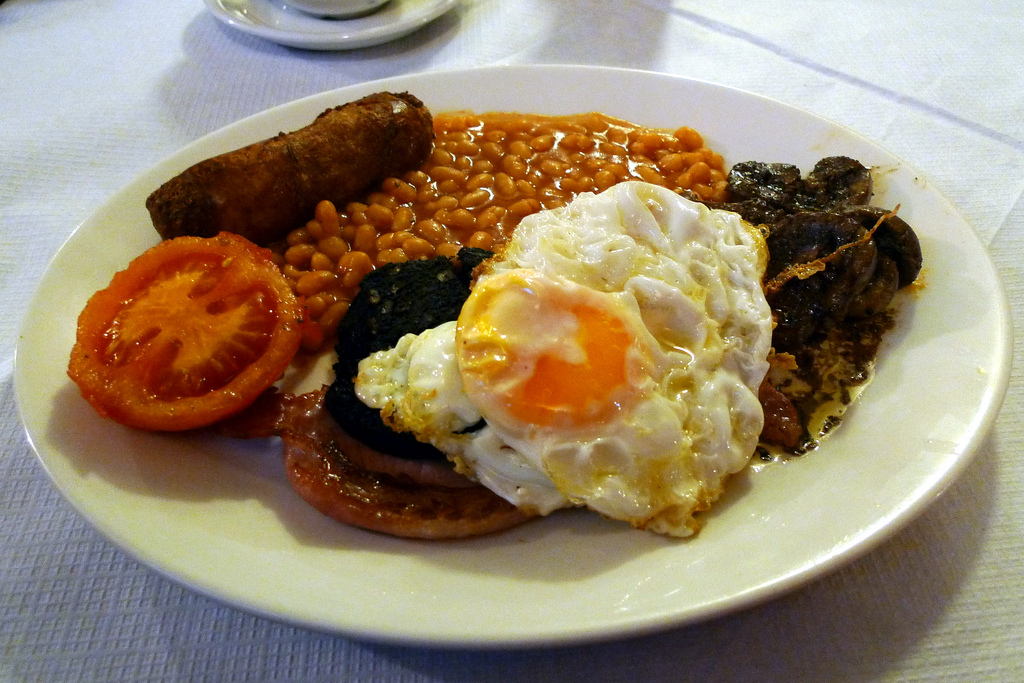boiled peas: (410, 112, 754, 203)
fried egg: (374, 180, 785, 543)
